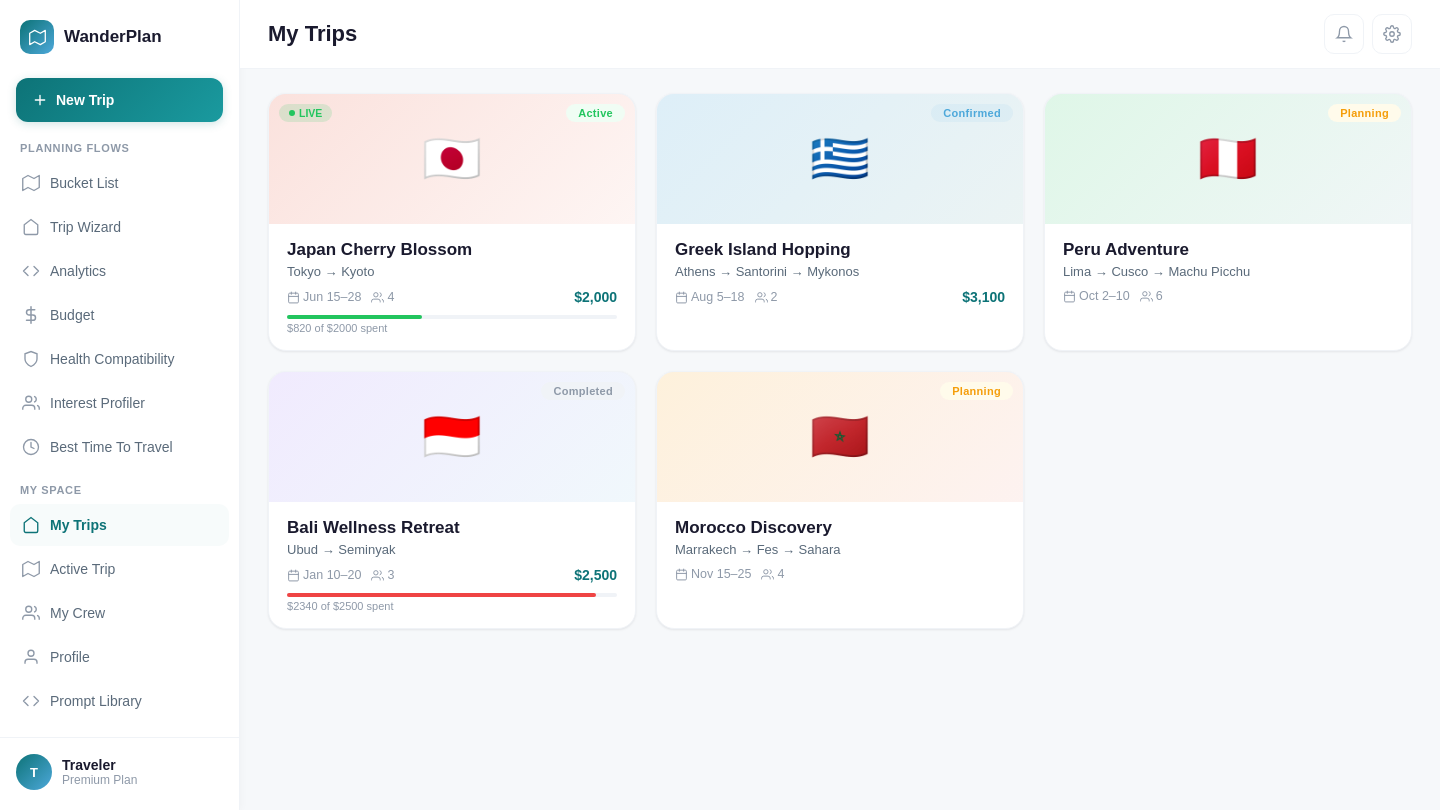
Test case: Trip detail expense management › B-11 shows expense categories
What coordinates should you click on to do the following:
click the heading "Greek Island Hopping"
I would click on:
 (763, 250)
Its box is [675, 240, 851, 259].
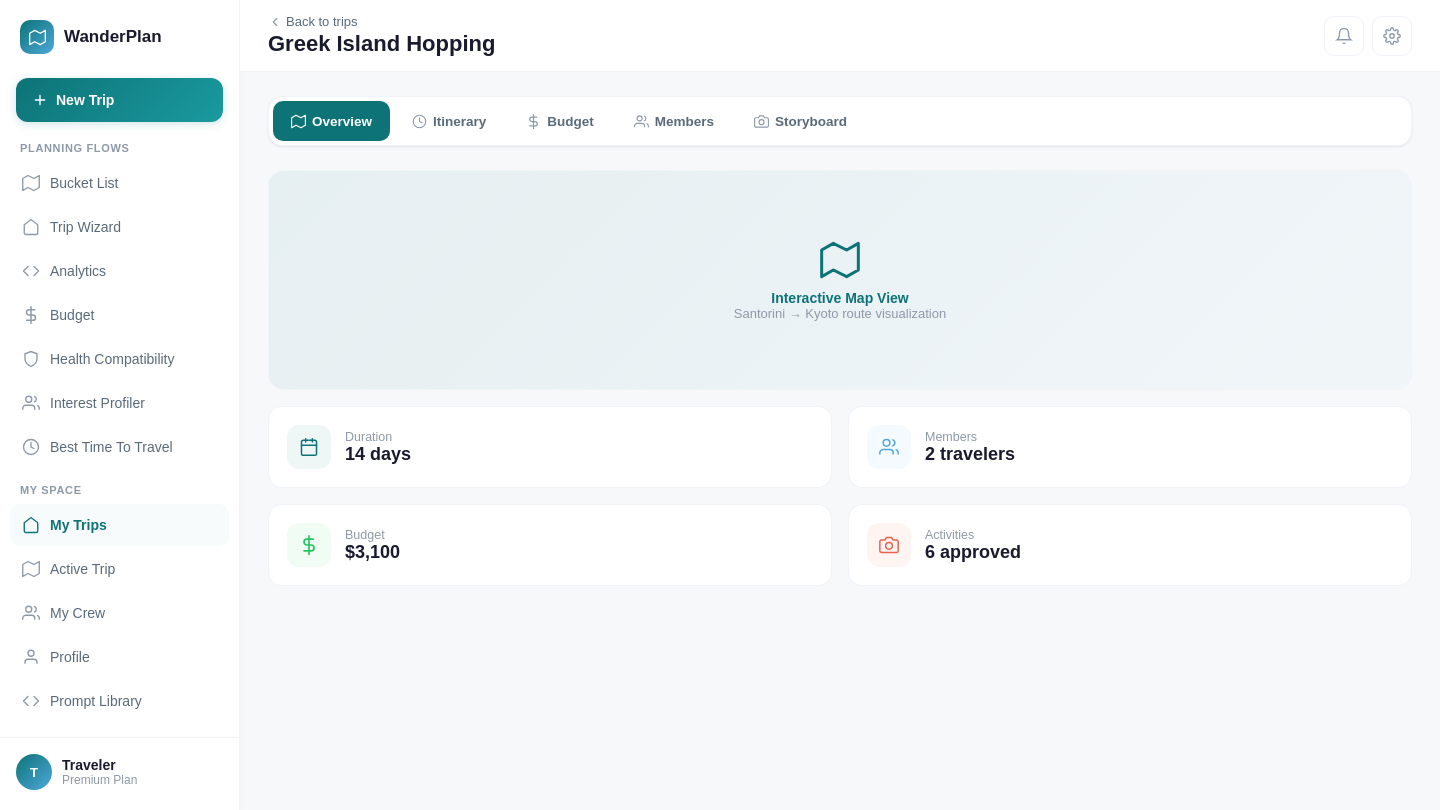
What coordinates should you click on to do the following:
click the button "Budget" below "Greek Island Hopping"
I would click on:
 (560, 121)
Its box is [508, 101, 612, 141].
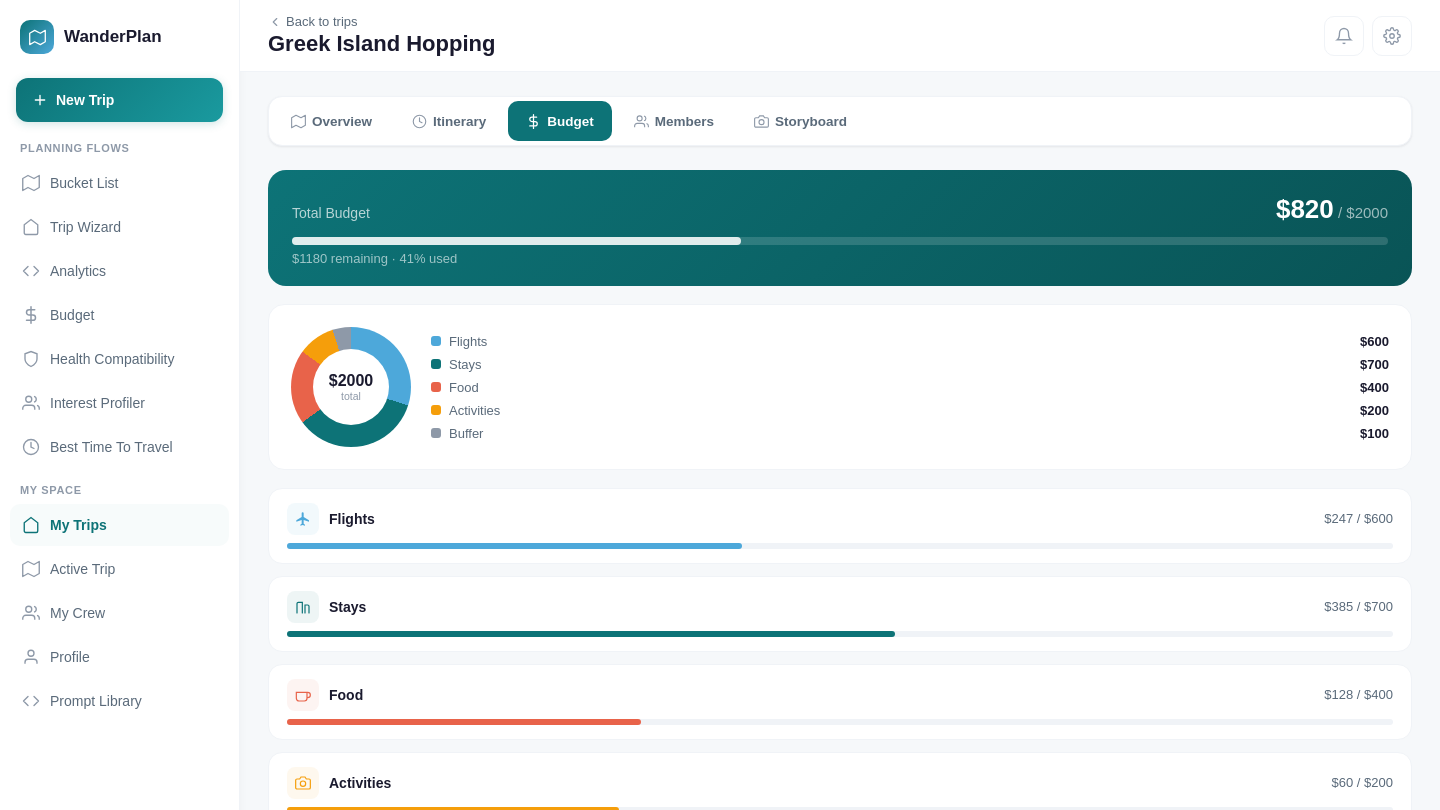
Result: the 1st text "Food" is shown at [449, 380, 479, 394]
Result: the 1st text "Activities" is shown at [449, 402, 500, 418]
